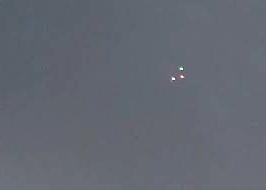Plane: (161, 58, 195, 87)
